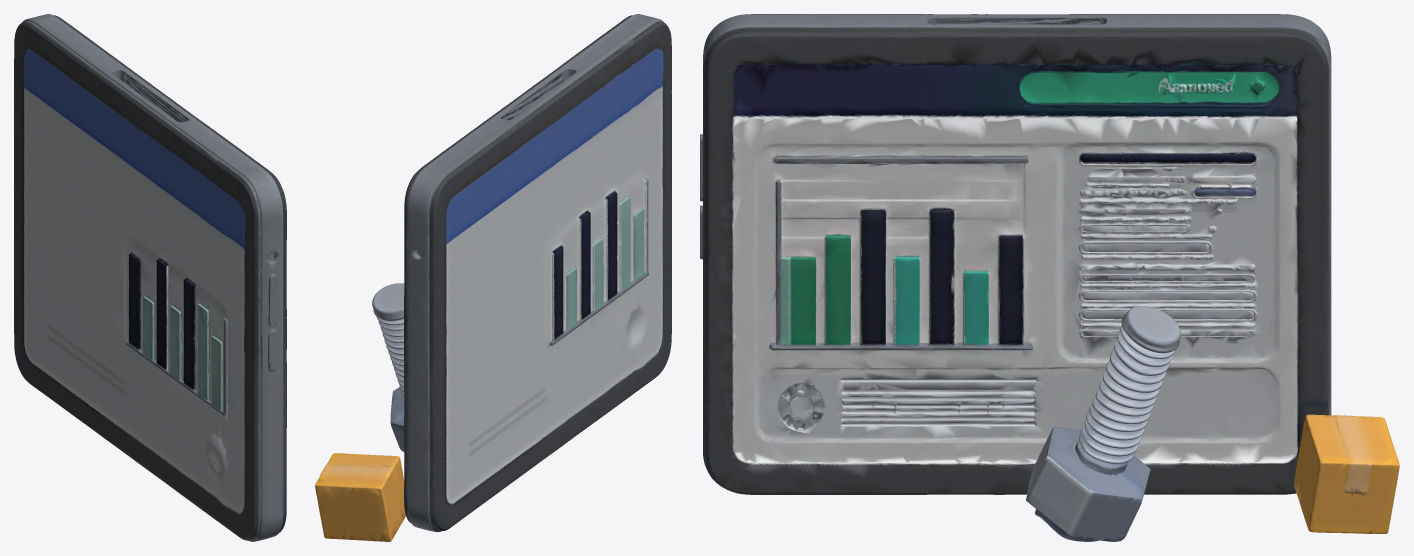
The model's file is business-hero.glb.
3 renders of one model, left to right at view 1: azimuth 30°, elevation 25°; view 2: azimuth 150°, elevation 25°; view 3: azimuth 270°, elevation 25°, orthographic. The views are drawn at different scales.
Parts seen in each view (by area): view 1: tripo_node_149b2b13-6ba8-4e91-9f9a-e572f89e5387; view 2: tripo_node_149b2b13-6ba8-4e91-9f9a-e572f89e5387; view 3: tripo_node_149b2b13-6ba8-4e91-9f9a-e572f89e5387.
Boxes of the visible parts, x1,y1,x2,y2 form: tripo_node_149b2b13-6ba8-4e91-9f9a-e572f89e5387: [14, 14, 286, 541]; tripo_node_149b2b13-6ba8-4e91-9f9a-e572f89e5387: [315, 14, 671, 541]; tripo_node_149b2b13-6ba8-4e91-9f9a-e572f89e5387: [700, 14, 1399, 541].
Size of the model in its own units: 0.2881 by 0.7224 by 0.9793.
Materials: 1 (1 with a texture image).
